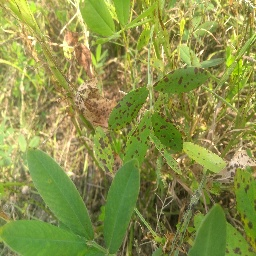GroundNut_Leaf: (24, 147, 92, 219), (103, 157, 139, 255), (1, 220, 95, 255), (101, 88, 149, 132), (193, 203, 228, 255), (185, 141, 229, 182), (237, 167, 255, 253), (153, 67, 210, 92), (151, 113, 182, 153), (81, 1, 116, 35)
